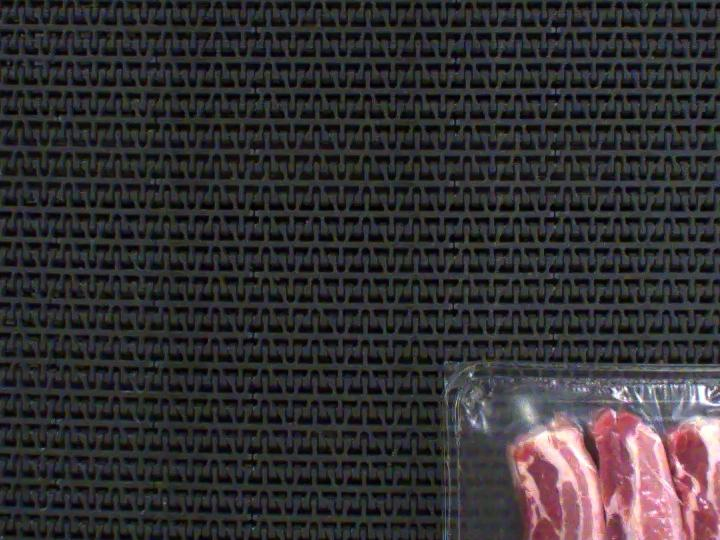unsealed: (453, 370, 720, 540)
